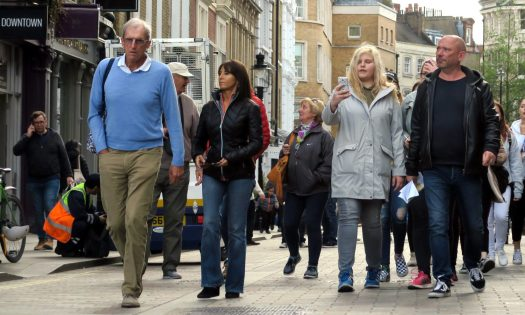person: (80, 11, 188, 309), (396, 31, 515, 300), (317, 43, 408, 295), (191, 55, 271, 301), (272, 92, 342, 281), (148, 57, 195, 279), (8, 109, 81, 251)
